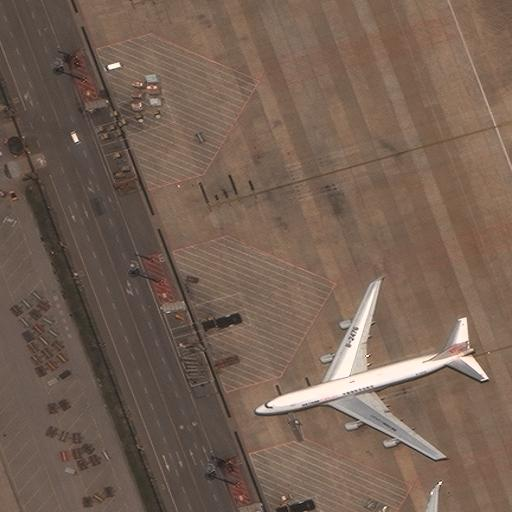Large Civil Transport: (252, 281, 472, 463), (408, 481, 477, 511)
